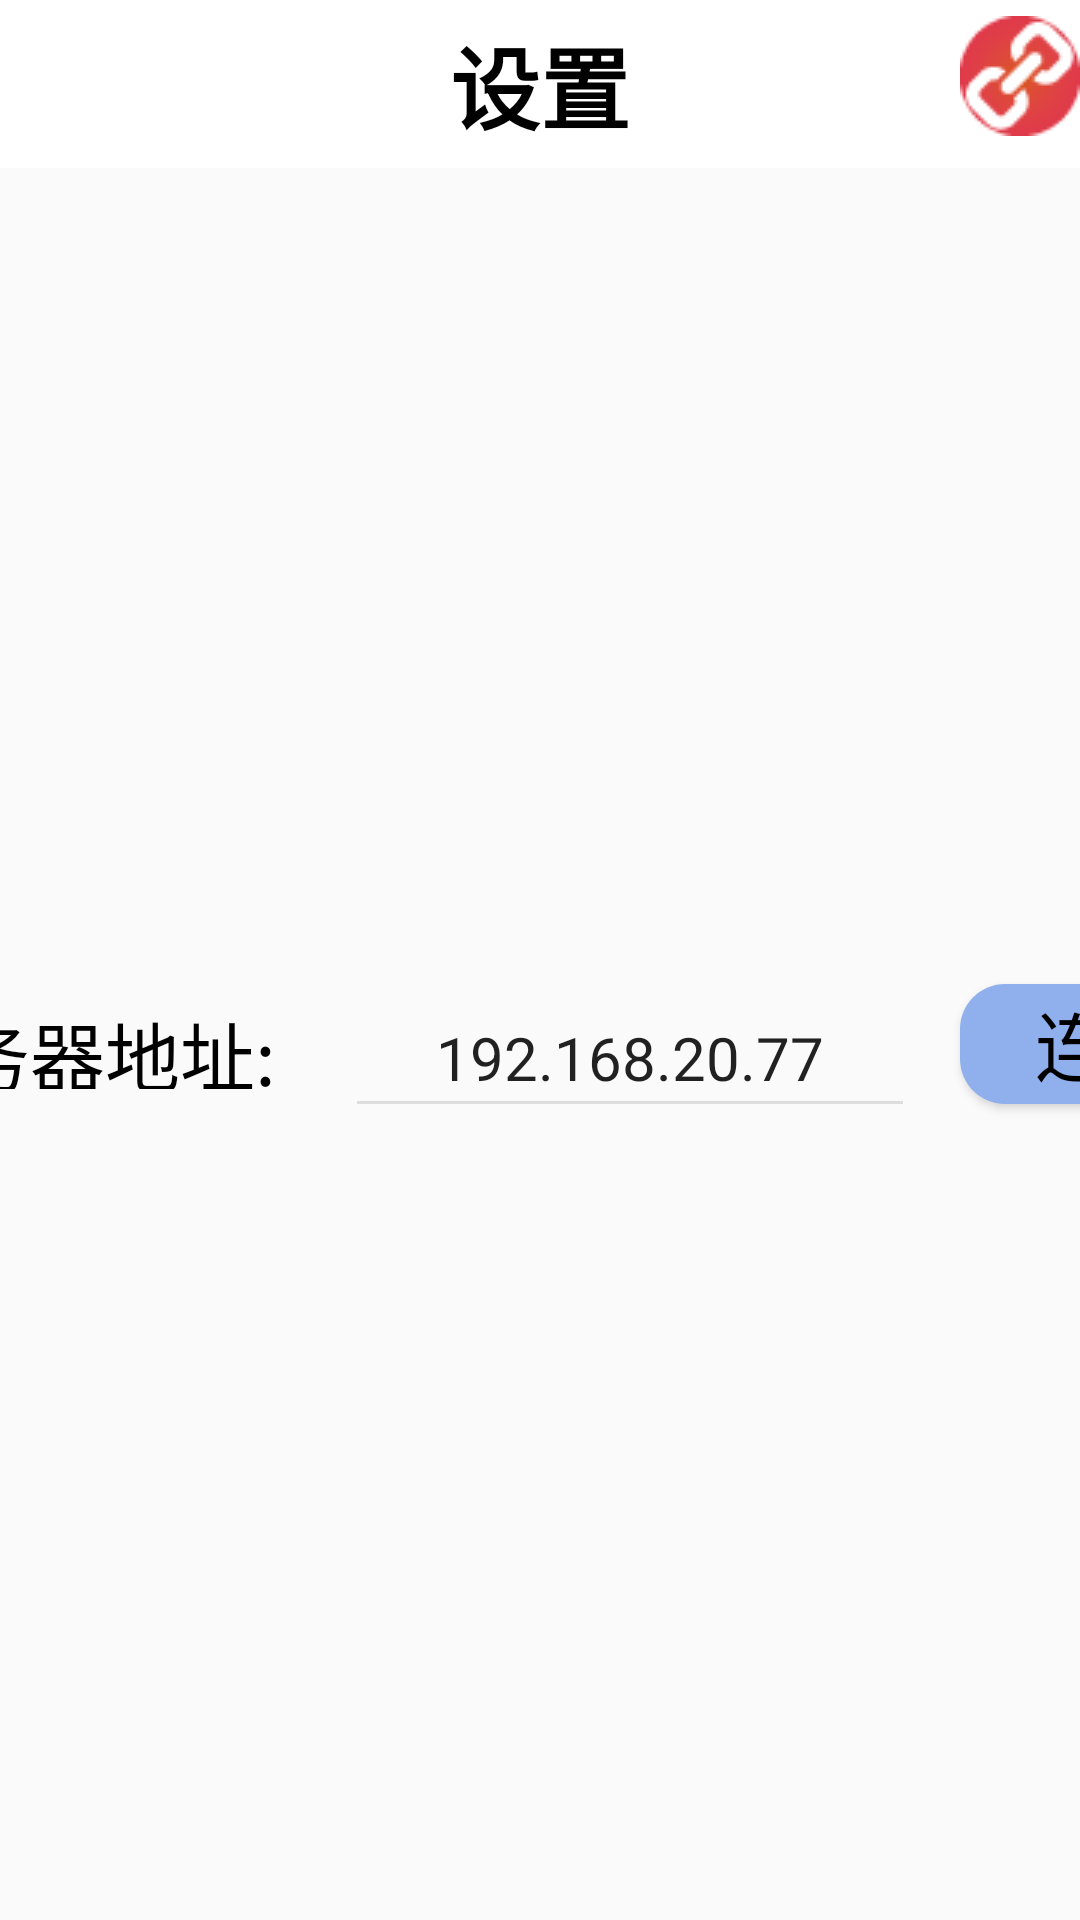

Screen size 1080×1920. Icon name, then its center in pixels as point (x, y):
disconnected: point (1020, 76)
